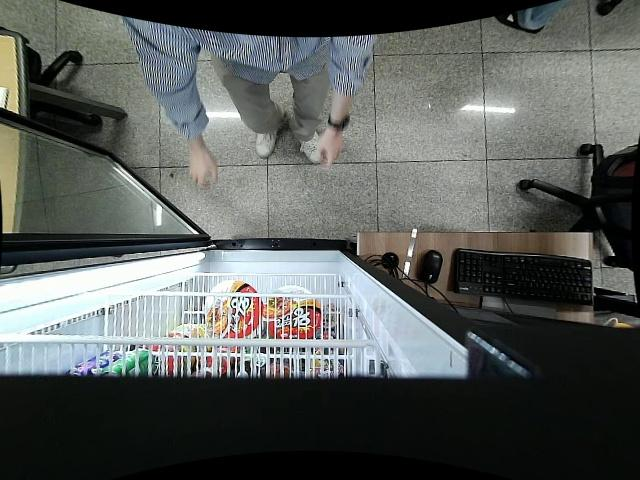00_hand: (188, 152, 218, 191), (315, 136, 343, 169)
